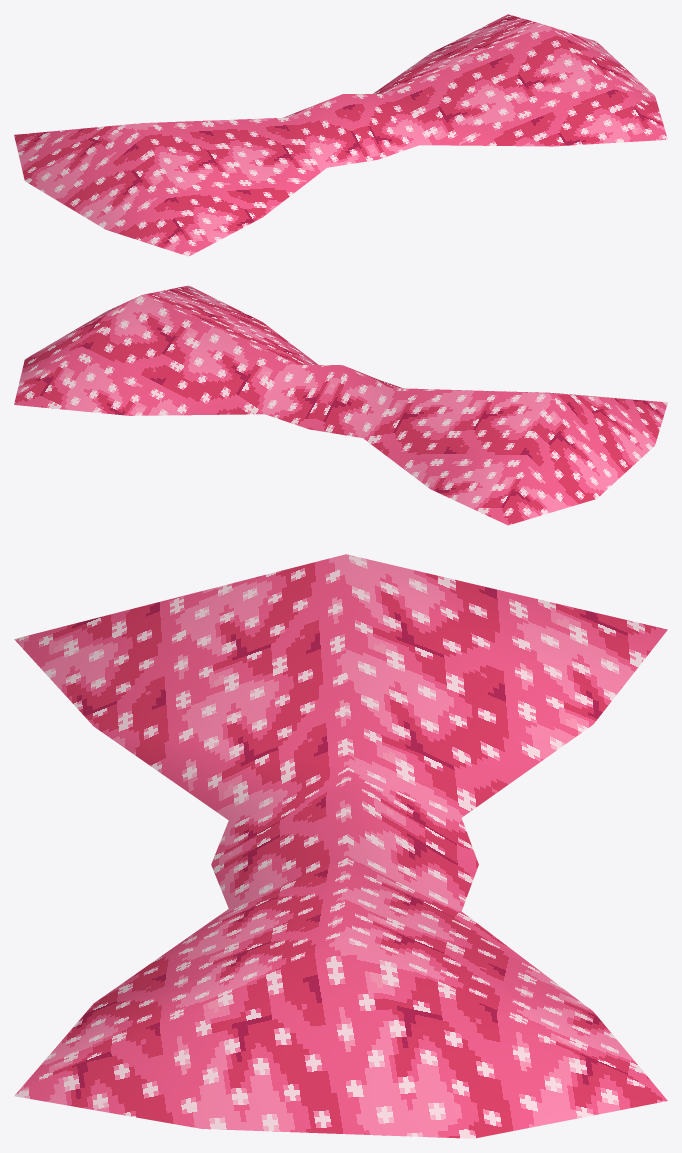
The model's file is 2947head097_c.gltf.
The picture shows the model from 3 angles, top to bottom: view 1: azimuth 30°, elevation 25°; view 2: azimuth 150°, elevation 25°; view 3: azimuth 270°, elevation 25°; orthographic projection. The views are drawn at different scales.
Parts seen in each view (by area): view 1: 2947head097_c; view 2: 2947head097_c; view 3: 2947head097_c.
Part boxes in pixels (<box>): 2947head097_c: <box>14,14,667,256</box>; 2947head097_c: <box>14,285,667,525</box>; 2947head097_c: <box>14,554,667,1138</box>.
Size of the model in its own units: 0.8569 by 0.0891 by 0.4341.
1 material, 1 textured.
